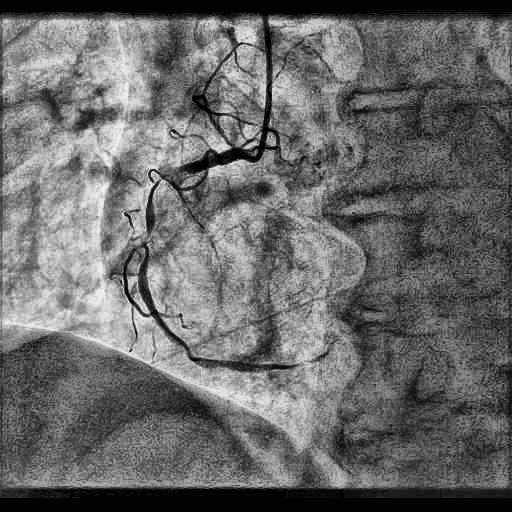rca: (138, 148, 329, 372)
